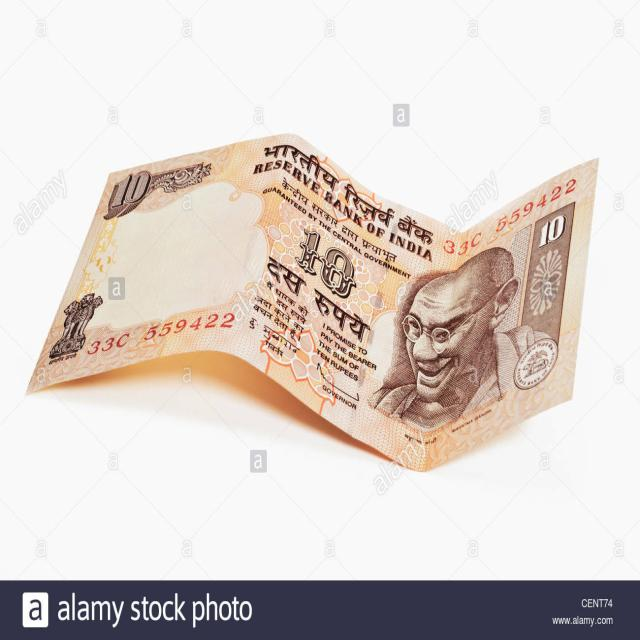10IndianRupees: (27, 129, 601, 425)
